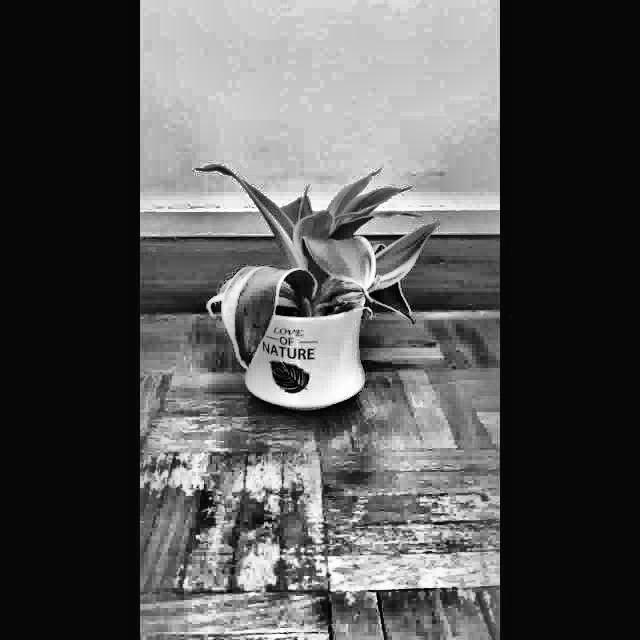plants: (180, 147, 450, 424)
